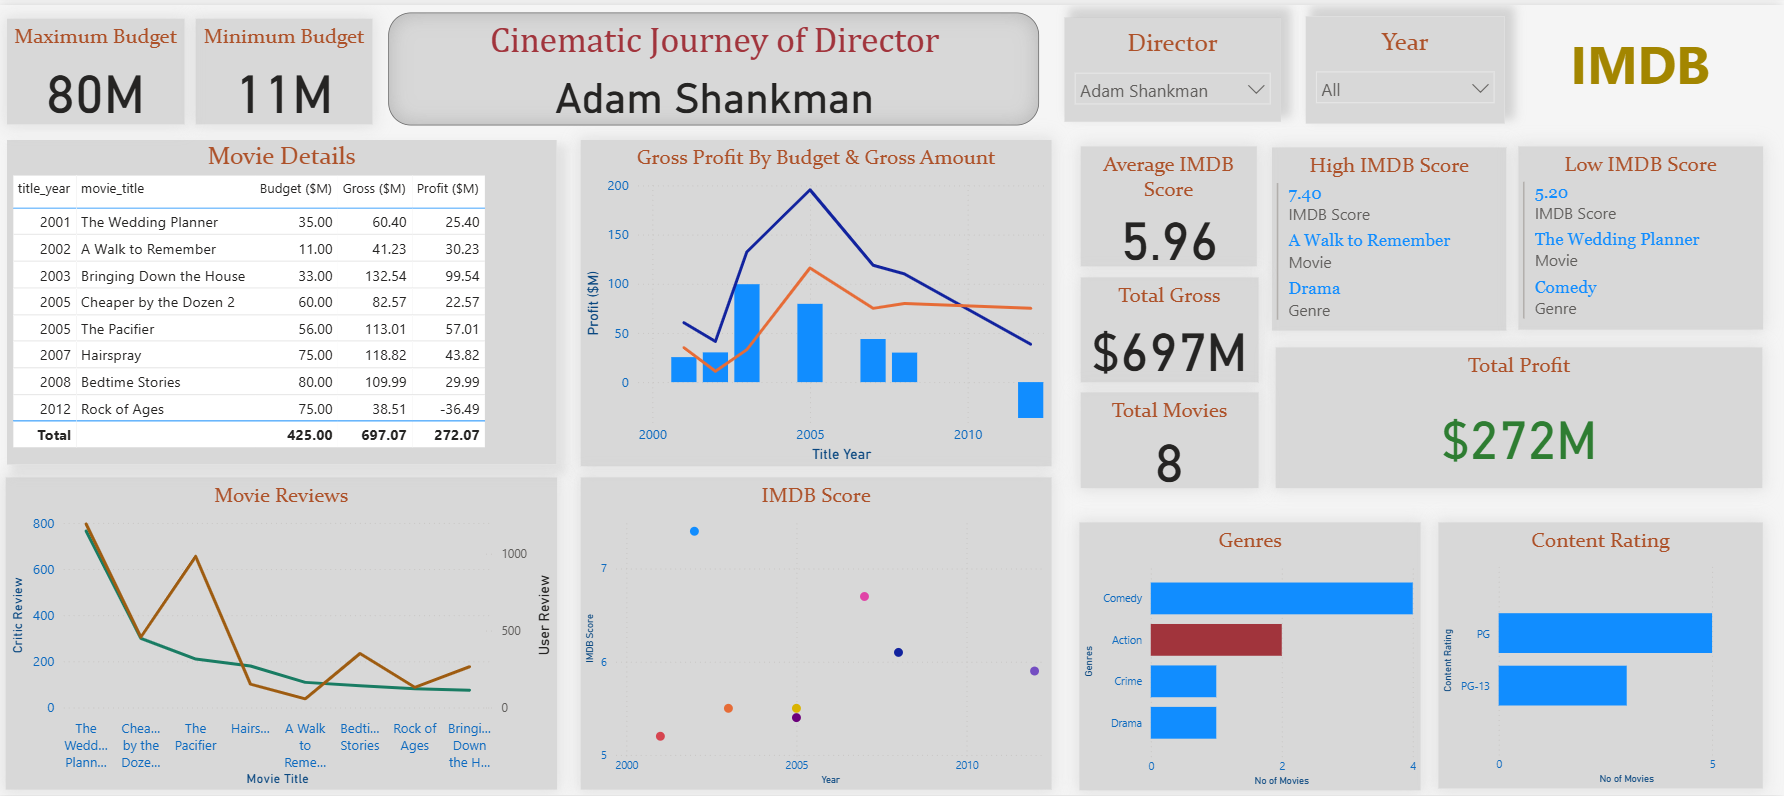

What the dashboard file says about the page in this screenshot:
{"tool":"powerbi","page":{"name":"Director","canvas":[1810,800],"ordinal":1},"visuals":[{"type":"slicer","title":"Actor ","fields":{"Values":["Dim Directors_Name.Director Name"]},"box":[10.1,8.7,218.9,105.8],"z":0},{"type":"lineStackedColumnComboChart","title":"Gross Profit By Budget & Gross Amount","fields":{"Category":["Fact.title_year"],"Series":["Dim Directors_Name.Director Name"],"Y2":["Sum(Fact.gross)","Sum(Fact.budget)"],"Y":["Sum(Fact.Gross Profit)"]},"box":[736.3,136.2,476.9,330.5],"z":1000},{"type":"lineChart","title":"IMDB Score","fields":{"Category":["Fact.title_year"],"Y":["Sum(Fact.imdb_score)"],"Series":["Fact.movie_title"]},"box":[738.3,478.9,475.7,315.5],"z":2000},{"type":"barChart","title":"Genres","fields":{"Category":["Dim Genres.Genres"],"Y":["CountNonNull(Fact.title_year)"]},"box":[1229.1,136.2,298.6,329],"z":3000},{"type":"barChart","title":"Content Rating","fields":{"Category":["Dim Content_Rating.Content Rating"],"Y":["CountNonNull(Fact.title_year)"]},"box":[1228.4,478.9,299.5,315.5],"z":4000},{"type":"lineChart","title":"Movie Reviews","fields":{"Category":["Fact.movie_title"],"Y":["Sum(Review and Likes.num_critic_for_reviews)"],"Y2":["Sum(Review and Likes.num_user_for_reviews)"]},"box":[9.4,443.8,717.2,350.2],"z":5000},{"type":"card","title":"Maximum Budget","fields":{"Values":["Fact.Max_Dir_Budget"]},"box":[1540.7,539.2,247.8,107.3],"z":6000},{"type":"card","title":"Minimum Budget","fields":{"Values":["Fact.Min_Dir_Budget"]},"box":[1540.7,674,247.8,120.3],"z":7000},{"type":"multiRowCard","title":"High IMDB Score","fields":{"Values":["Fact.Dir_HR_Movie","Fact.Dir_HR_Movie_Name","Fact.Dir_HR_Movie_Genre"]},"box":[1540.7,120.3,244.9,189.9],"z":8000},{"type":"multiRowCard","title":"Low IMDB Score","fields":{"Values":["Fact.Dir_LR_Movie","Fact.Dir_LR_Movie_Name","Fact.Dir_LR_Movie_Genre"]},"box":[1540.7,331.9,247.8,185.5],"z":9000},{"type":"card","title":"Cinematic Journey of Director","fields":{"Values":["Min(Dim Directors_Name.Director Name)"]},"box":[726.1,0,520.3,133.3],"z":10000},{"type":"slicer","title":"Year","fields":{"Values":["Fact.title_year"]},"box":[243.5,5.8,398.6,108.7],"z":11000},{"type":"textbox","box":[1378.4,18.8,249.3,81.2],"z":12000},{"type":"tableEx","title":"Movie Details","fields":{"Values":["Fact.title_year","Fact.movie_title","Sum(Fact.budget)","Sum(Fact.gross)","Sum(Fact.Gross Profit)"]},"box":[8.7,117.4,714.6,321.8],"z":13000}]}

Visuals, with their boxes in screenshot pixels (x1, y1, x2, y2), scaled from the page's 1810x800 canvas onto the 1784x796 screenshot:
"Actor " slicer: [left=10, top=9, right=226, bottom=114]
"Gross Profit By Budget & Gross Amount" lineStackedColumnComboChart: [left=726, top=136, right=1196, bottom=464]
"IMDB Score" lineChart: [left=728, top=477, right=1197, bottom=790]
"Genres" barChart: [left=1211, top=136, right=1506, bottom=463]
"Content Rating" barChart: [left=1211, top=477, right=1506, bottom=790]
"Movie Reviews" lineChart: [left=9, top=442, right=716, bottom=790]
"Maximum Budget" card: [left=1519, top=537, right=1763, bottom=643]
"Minimum Budget" card: [left=1519, top=671, right=1763, bottom=790]
"High IMDB Score" multiRowCard: [left=1519, top=120, right=1760, bottom=309]
"Low IMDB Score" multiRowCard: [left=1519, top=330, right=1763, bottom=515]
"Cinematic Journey of Director" card: [left=716, top=0, right=1228, bottom=133]
"Year" slicer: [left=240, top=6, right=633, bottom=114]
textbox: [left=1359, top=19, right=1604, bottom=100]
"Movie Details" tableEx: [left=9, top=117, right=713, bottom=437]
